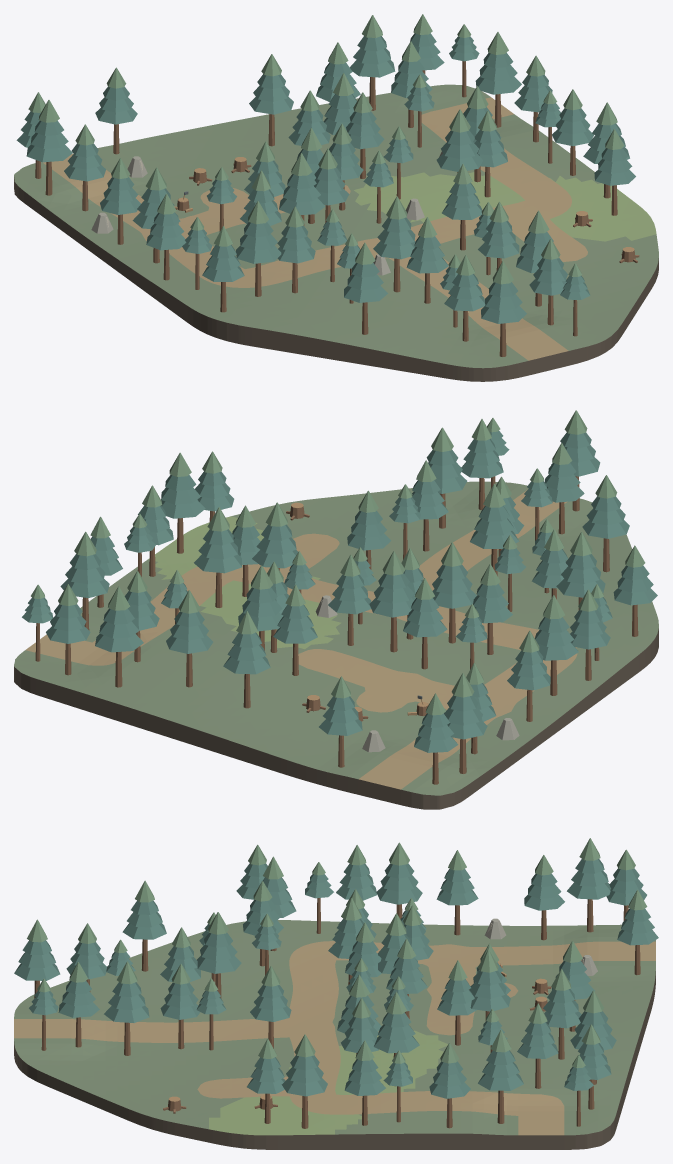
The model's file is tv_47_03_pine_forest.glb.
3 views of the same model, one above another, from view 1: azimuth 30°, elevation 25°; view 2: azimuth 150°, elevation 25°; view 3: azimuth 270°, elevation 25° (orthographic). The views are drawn at different scales.
Parts seen in each view (by area): view 1: tv_47_03_pine_forest_continuous_ground, landscape_pine_tall_0013, landscape_pine_tall_0023, landscape_pine_tall_0011, landscape_pine_tall_0058, landscape_pine_tall_0050, landscape_pine_tall_0027, landscape_pine_tall_0062, landscape_pine_tall_0060, landscape_pine_tall_0044, landscape_pine_tall_0020, landscape_pine_tall_0018 (+39 smaller); view 2: tv_47_03_pine_forest_continuous_ground, landscape_pine_tall_0046, landscape_pine_tall_0050, landscape_pine_tall_0030, landscape_pine_tall_0020, landscape_pine_tall_0054, landscape_pine_tall_0058, landscape_pine_tall_0060, landscape_pine_tall_0063, landscape_pine_tall_0011, landscape_pine_tall_0007, landscape_pine_tall_0062 (+38 smaller); view 3: tv_47_03_pine_forest_continuous_ground, landscape_pine_tall_0054, landscape_pine_tall_0036, landscape_pine_tall_0058, landscape_pine_tall_0011, landscape_pine_tall_0027, landscape_pine_tall_0007, landscape_pine_tall_0060, landscape_pine_tall_0023, landscape_pine_tall_0063, landscape_pine_tall_0046, landscape_pine_tall_0043 (+36 smaller).
Boxes of the visible parts, x1,y1,x2,y2 form: tv_47_03_pine_forest_continuous_ground: (14, 84, 658, 381); landscape_pine_tall_0013: (236, 201, 281, 296); landscape_pine_tall_0023: (481, 261, 526, 356); landscape_pine_tall_0011: (26, 100, 72, 195); landscape_pine_tall_0058: (475, 32, 521, 127); landscape_pine_tall_0050: (350, 15, 395, 110); landscape_pine_tall_0027: (373, 196, 415, 292); landscape_pine_tall_0062: (249, 54, 293, 146); landscape_pine_tall_0060: (344, 242, 387, 334); landscape_pine_tall_0044: (436, 109, 482, 172); landscape_pine_tall_0020: (279, 153, 325, 225); landscape_pine_tall_0018: (95, 67, 137, 154); tv_47_03_pine_forest_continuous_ground: (14, 481, 658, 809); landscape_pine_tall_0046: (194, 507, 242, 607); landscape_pine_tall_0050: (95, 586, 143, 687); landscape_pine_tall_0030: (369, 551, 414, 652); landscape_pine_tall_0020: (432, 542, 476, 643); landscape_pine_tall_0054: (161, 452, 205, 553); landscape_pine_tall_0058: (60, 531, 109, 630); landscape_pine_tall_0060: (582, 475, 629, 572); landscape_pine_tall_0063: (166, 590, 213, 687); landscape_pine_tall_0011: (444, 673, 487, 773); landscape_pine_tall_0007: (535, 595, 578, 695); landscape_pine_tall_0062: (223, 611, 270, 708); tv_47_03_pine_forest_continuous_ground: (14, 920, 655, 1149); landscape_pine_tall_0054: (281, 1034, 327, 1128); landscape_pine_tall_0036: (104, 961, 149, 1055); landscape_pine_tall_0058: (478, 1029, 523, 1123); landscape_pine_tall_0011: (567, 838, 610, 932); landscape_pine_tall_0027: (197, 912, 241, 998); landscape_pine_tall_0007: (376, 842, 422, 918); landscape_pine_tall_0060: (122, 880, 166, 971); landscape_pine_tall_0023: (14, 919, 60, 998); landscape_pine_tall_0063: (543, 969, 581, 1059); landscape_pine_tall_0046: (374, 991, 419, 1057); landscape_pine_tall_0043: (469, 949, 510, 1020).
Bounding box in the file's own units: 45.14 × 10.66 × 56.26.
